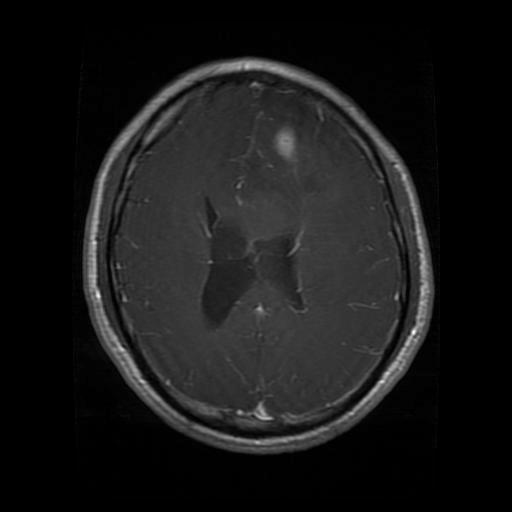Tumour-Glioma: (243, 118, 341, 184)
